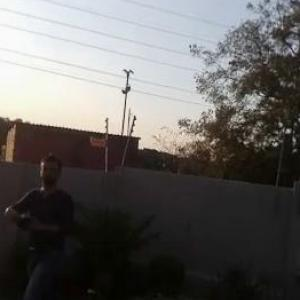follow: (0, 150, 78, 299)
